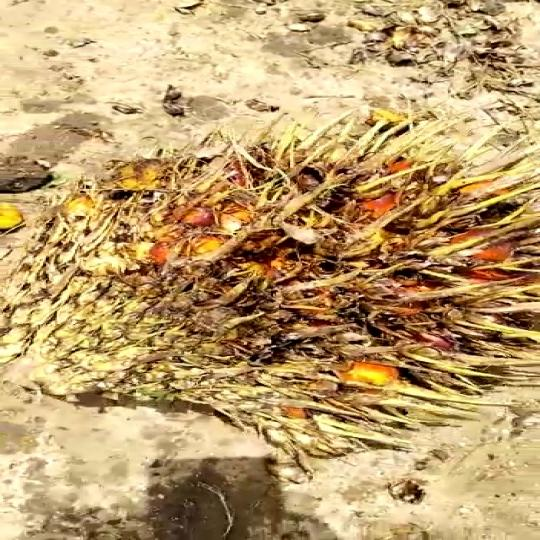terlalu masak: (0, 98, 540, 472)
